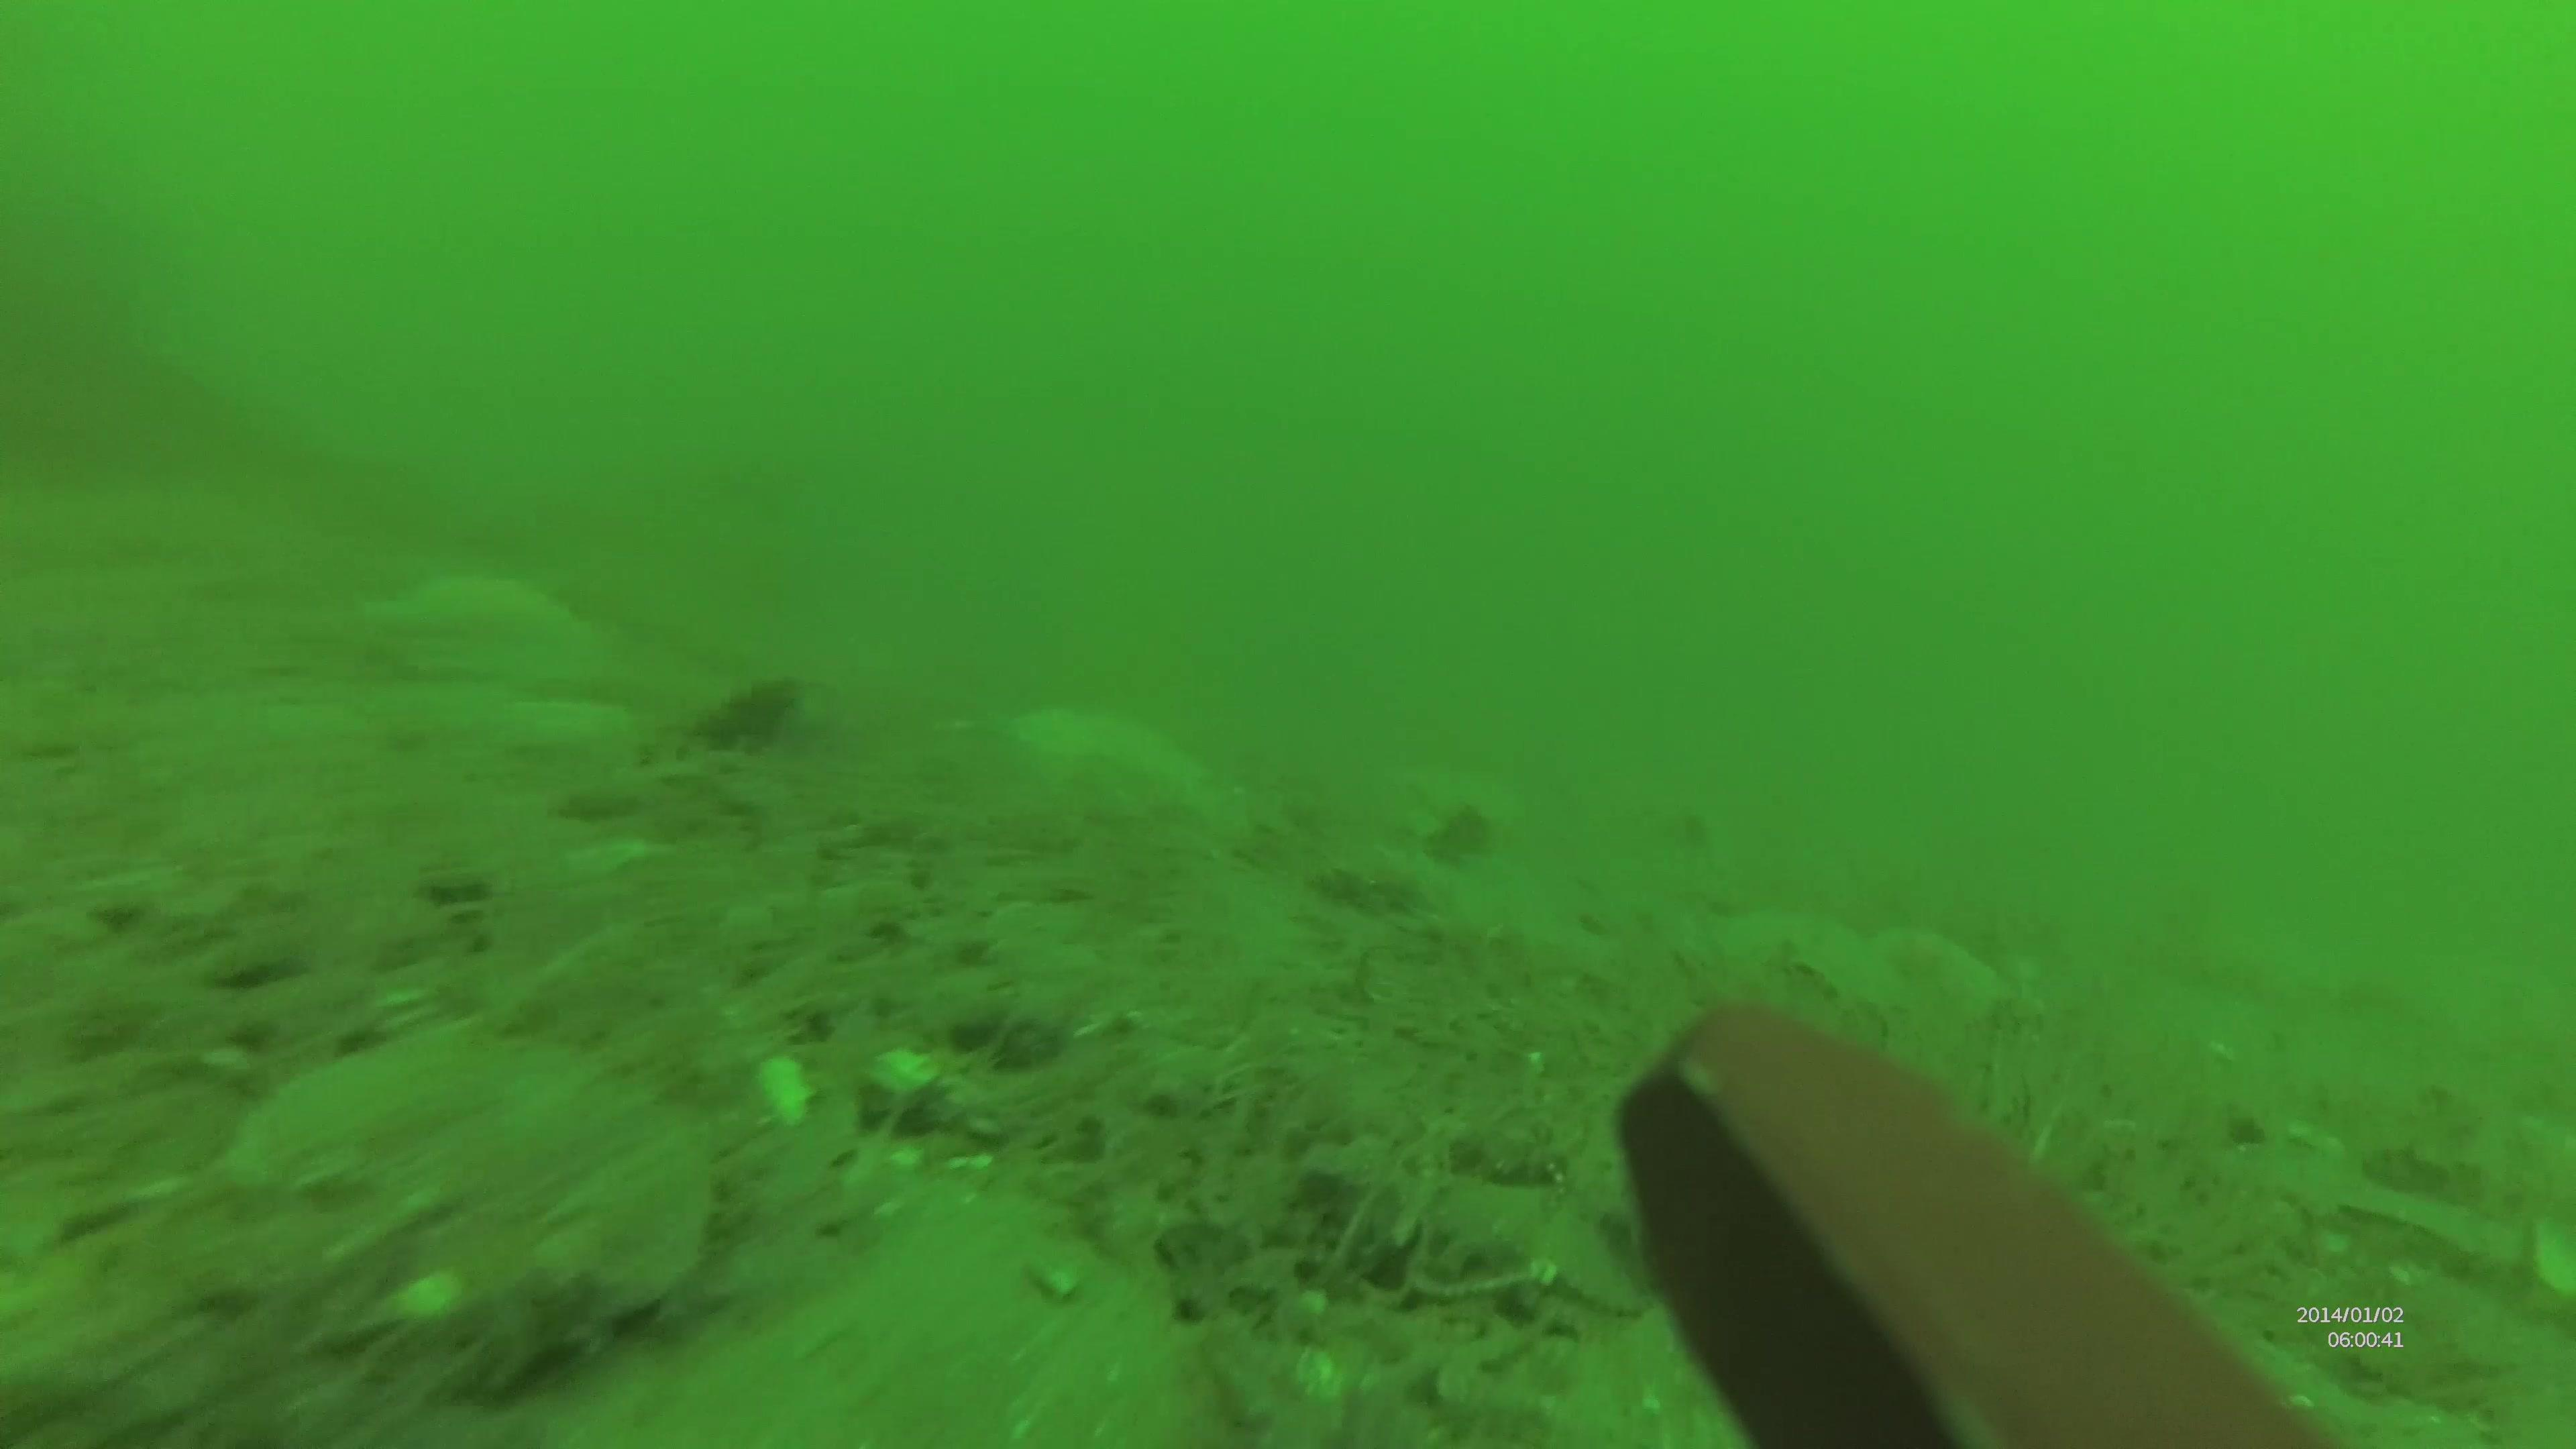holothurian: (688, 674, 801, 754)
scallop: (232, 1030, 706, 1389)
starfish: (1010, 688, 1249, 844), (364, 566, 640, 695), (1697, 883, 1884, 1019), (1858, 908, 2026, 1033)
